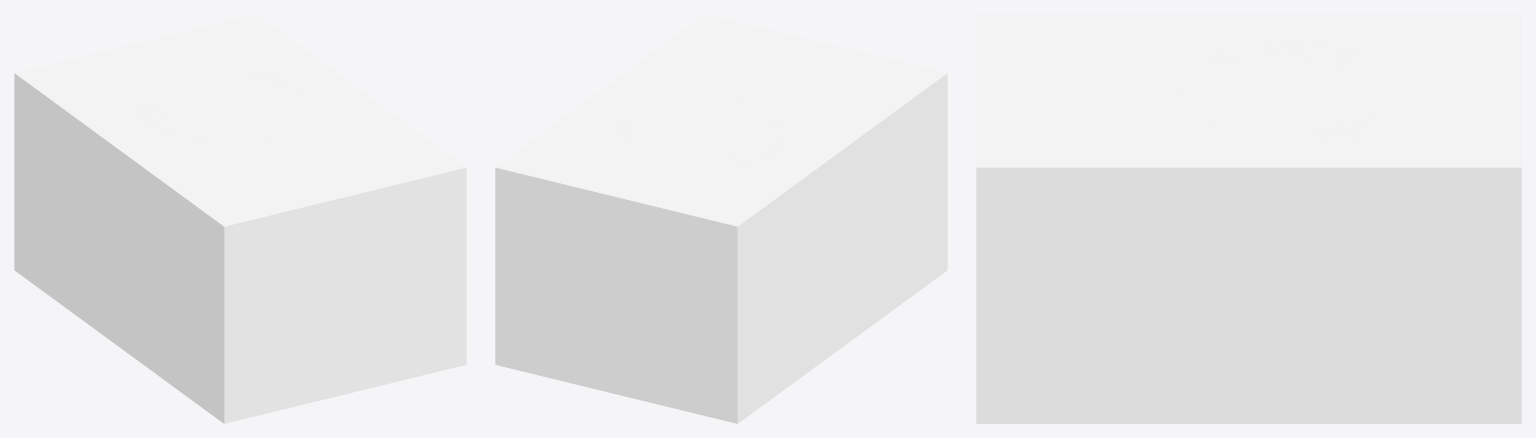
File: Building_MechGestator.glb
The picture shows the model from 3 angles, left to right: view 1: azimuth 30°, elevation 25°; view 2: azimuth 150°, elevation 25°; view 3: azimuth 270°, elevation 25°; orthographic projection. The views are drawn at different scales.
Visible parts, largest first — view 1: MechGestator; view 2: MechGestator; view 3: MechGestator.
Part boxes in pixels (x1=…): MechGestator: x1=14, y1=14, x2=466, y2=423; MechGestator: x1=495, y1=14, x2=947, y2=423; MechGestator: x1=976, y1=14, x2=1521, y2=423.
Size of the model in its own units: 1.8 by 1.4 by 2.7.
Materials: 1 (1 with a texture image).
